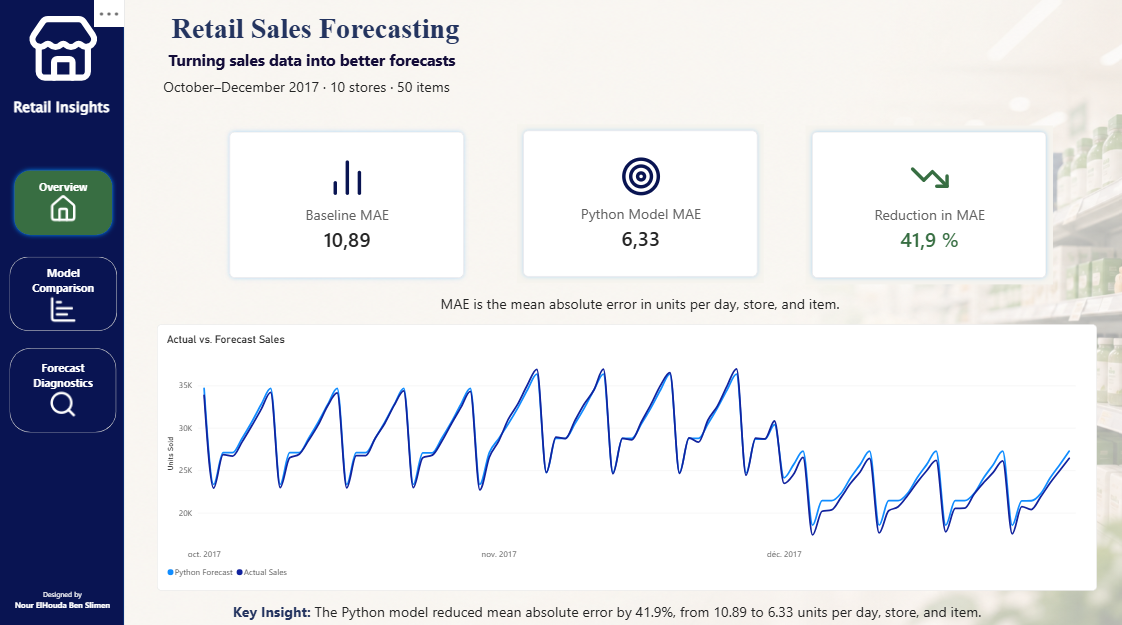

What the dashboard file says about the page in this screenshot:
{"tool":"powerbi","page":{"name":"Overview","canvas":[1920,1080],"ordinal":3},"visuals":[{"type":"textbox","box":[286,26,1571,57],"z":0},{"type":"textbox","box":[284,134,1501.7,37.9],"z":1000},{"type":"cardVisual","title":"Baseline MAE","fields":{"Data":["Forecast_Evaluation.MAE"]},"box":[386,218,420,270],"z":2000},{"type":"cardVisual","fields":{"Data":["Forecast_Evaluation_Python.MAE_Python"]},"box":[886,214,420,270],"z":3000},{"type":"cardVisual","fields":{"Data":["Evaluation_SameMonth_2017.MAE_Reduction_Pct"]},"box":[1376,218,420.7,270],"z":4000},{"type":"textbox","box":[496,504,1197.7,68.2],"z":5000},{"type":"lineChart","title":"Actual vs. Forecast Sales","fields":{"Category":["Forecast_Evaluation_Python.ForecastDate"],"Y":["Sum(Forecast_Evaluation_Python.ForecastSales_Python)","Sum(Forecast_Evaluation_Python.ActualSales)"]},"box":[272,556,1600,453.4],"z":6000},{"type":"shape","box":[0,0,216.7,1080.2],"z":7000},{"type":"actionButton","box":[20.7,284.5,183.1,126.1],"z":8000},{"type":"actionButton","box":[20.7,441.4,183.1,126.1],"z":9000},{"type":"actionButton","box":[20.7,596.6,182,144],"z":10000},{"type":"textbox","box":[292,1028,1494,38],"z":11000},{"type":"image","box":[39.7,25.9,144.8,125.9],"z":12000},{"type":"textbox","box":[20.7,169,177.6,39.7],"z":13000},{"type":"textbox","box":[292,88,1294,54],"z":14000},{"type":"textbox","box":[1306,172,150,908],"z":15000},{"type":"textbox","box":[20,1004,184,62],"z":16000}]}

Visuals, with their boxes on the page's 1920x1080 design canvas (x1, y1, x2, y2). These are canvas units, not pixel positions in the 1122x625 screenshot, which may show the page scaled, cropped or inside an application window:
textbox: 286, 26, 1857, 83
textbox: 284, 134, 1786, 172
"Baseline MAE" cardVisual: 386, 218, 806, 488
cardVisual - Forecast_Evaluation_Python.MAE_Python: 886, 214, 1306, 484
cardVisual - Evaluation_SameMonth_2017.MAE_Reduction_Pct: 1376, 218, 1797, 488
textbox: 496, 504, 1694, 572
"Actual vs. Forecast Sales" lineChart: 272, 556, 1872, 1009
shape: 0, 0, 217, 1080
actionButton: 21, 284, 204, 411
actionButton: 21, 441, 204, 568
actionButton: 21, 597, 203, 741
textbox: 292, 1028, 1786, 1066
image: 40, 26, 184, 152
textbox: 21, 169, 198, 209
textbox: 292, 88, 1586, 142
textbox: 1306, 172, 1456, 1080
textbox: 20, 1004, 204, 1066
